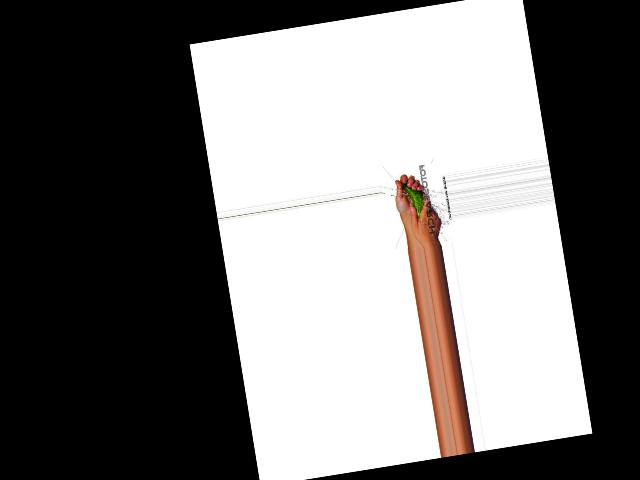cucumber: (401, 179, 427, 221)
